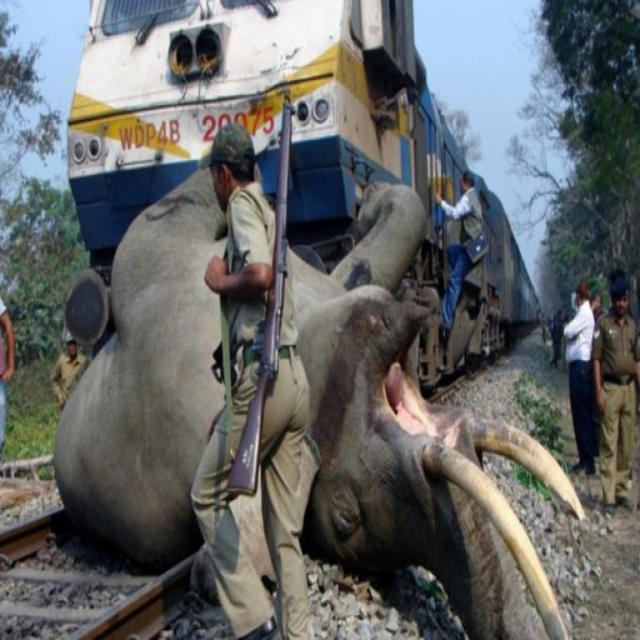Elephant: (46, 134, 549, 640)
